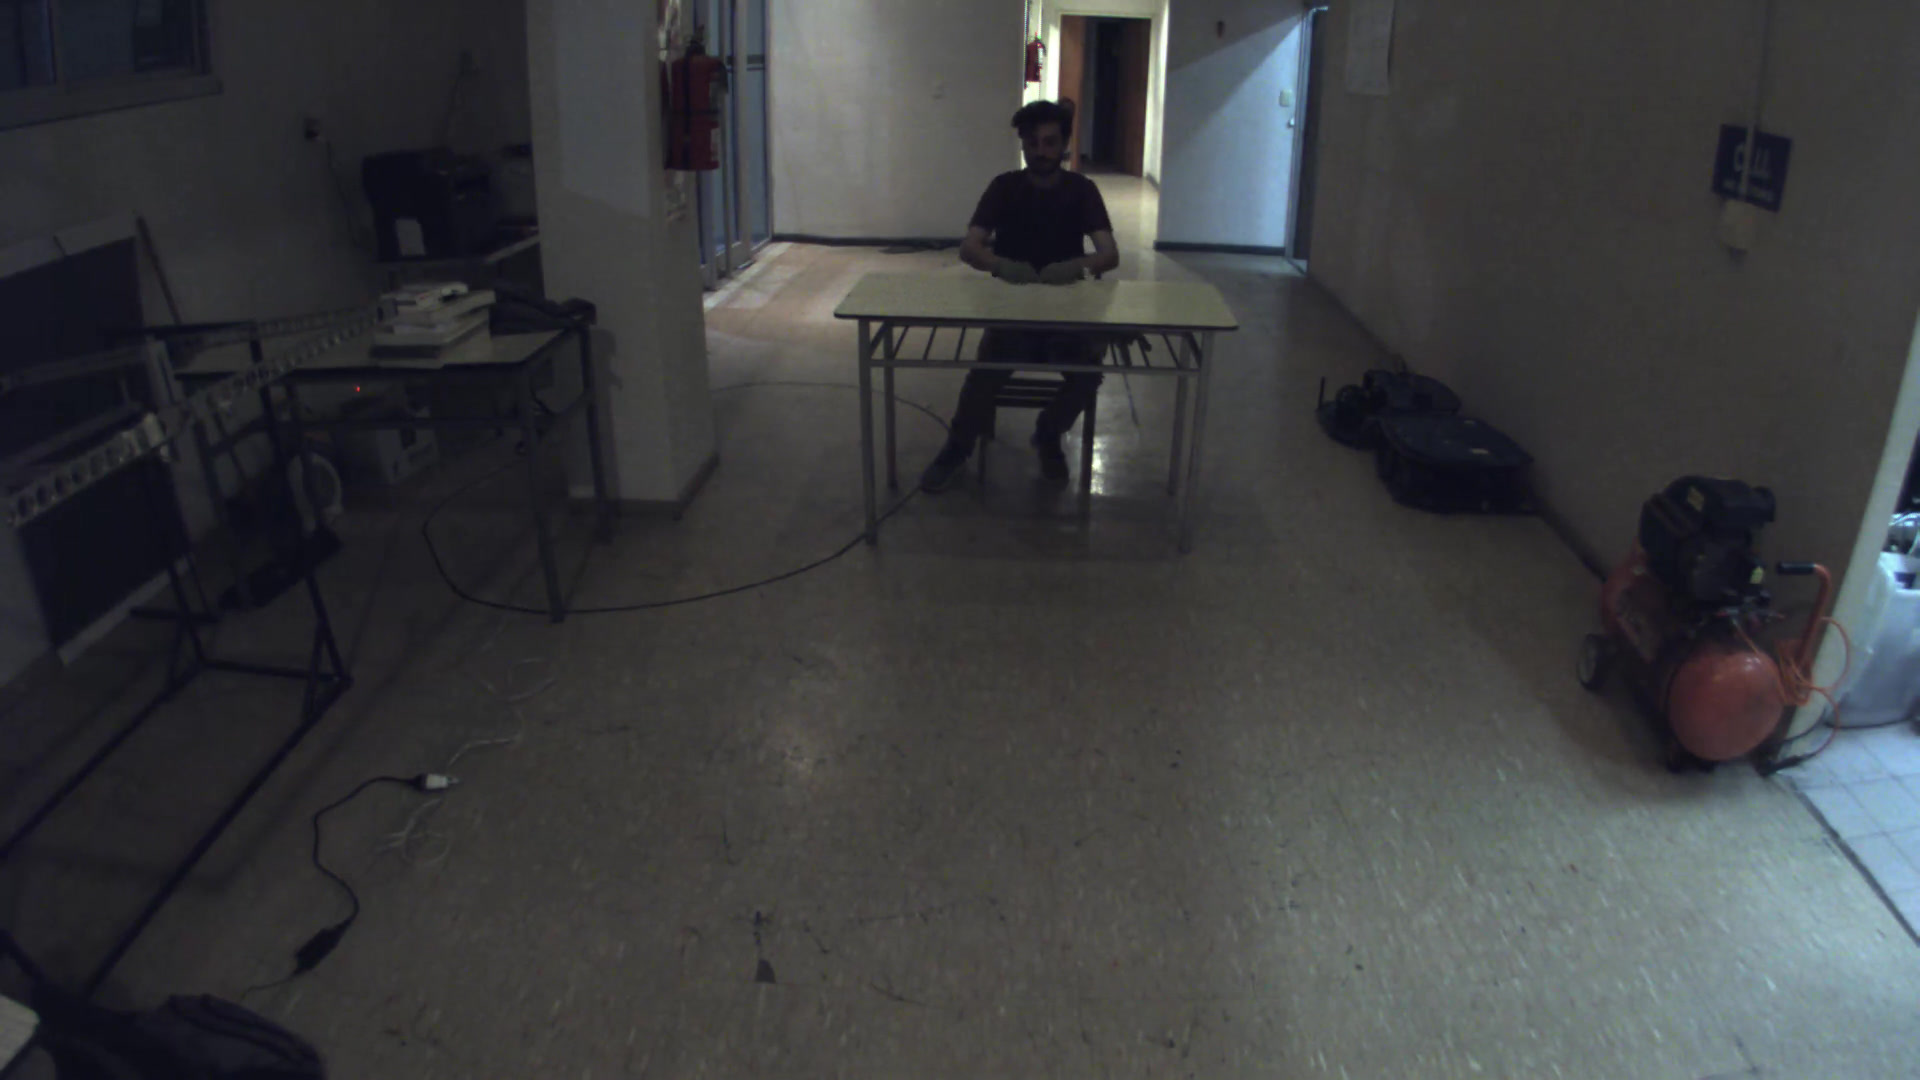hand: (982, 237, 1039, 290), (1038, 255, 1089, 295)
